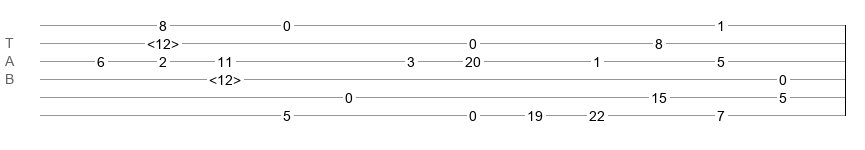0: (283, 18, 291, 28), (345, 90, 353, 100), (469, 108, 477, 118), (469, 36, 477, 46), (779, 72, 787, 82)
1: (593, 54, 601, 64), (717, 18, 725, 28)
11: (217, 54, 233, 64)
15: (651, 90, 667, 100)
19: (527, 108, 543, 118)
2: (159, 54, 167, 64)
20: (465, 54, 481, 64)
22: (589, 108, 605, 118)
3: (407, 54, 415, 64)
5: (283, 108, 291, 118), (717, 54, 725, 64), (779, 90, 787, 100)
6: (97, 54, 105, 64)
7: (717, 108, 725, 118)
8: (159, 18, 167, 28), (655, 36, 663, 46)
harmonic: (147, 36, 179, 46), (209, 72, 241, 82)
